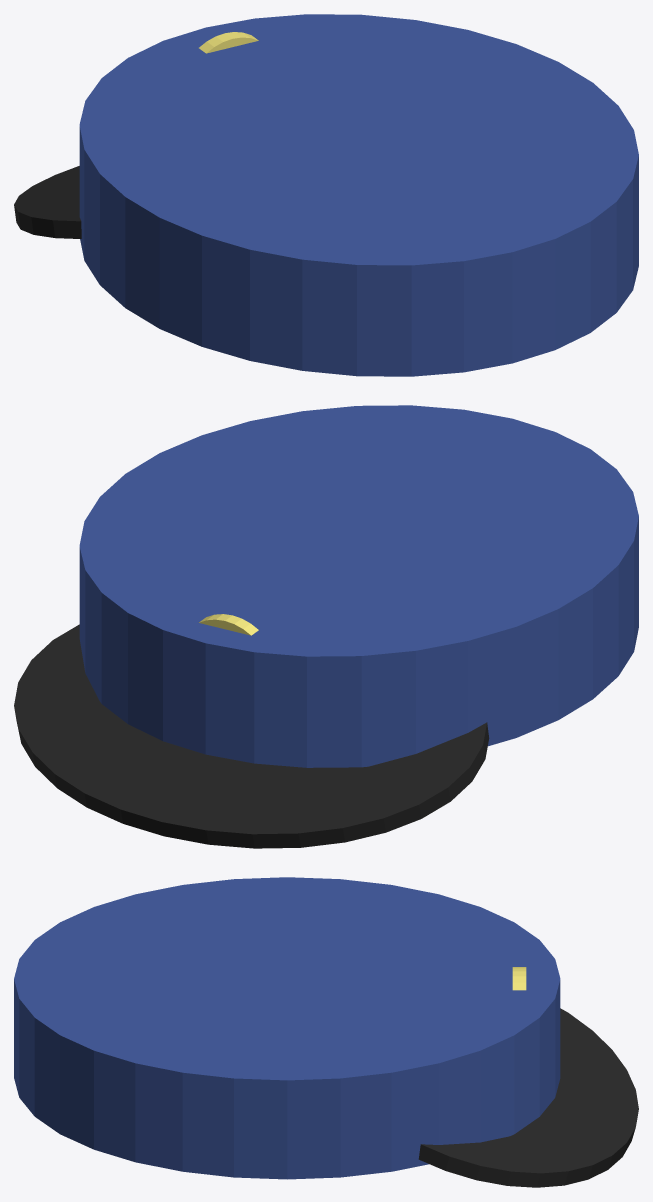
Rendered from czapka_policyjna.fbx.
3 renders of one model, top to bottom at view 1: azimuth 30°, elevation 25°; view 2: azimuth 150°, elevation 25°; view 3: azimuth 270°, elevation 25°, orthographic. The views are drawn at different scales.
Visible parts, largest first — view 1: CzapkaPolicyjna; view 2: CzapkaPolicyjna; view 3: CzapkaPolicyjna.
Boxes of the visible parts, box(x1,y1,x2,y2) form: CzapkaPolicyjna: box(14, 14, 638, 376); CzapkaPolicyjna: box(14, 405, 638, 848); CzapkaPolicyjna: box(14, 877, 638, 1187).
Size of the model in its own units: 1.76 by 0.6143 by 2.29.
